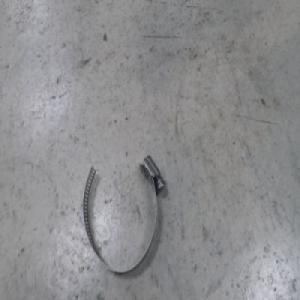AdjustableClamp: (79, 150, 162, 272)
